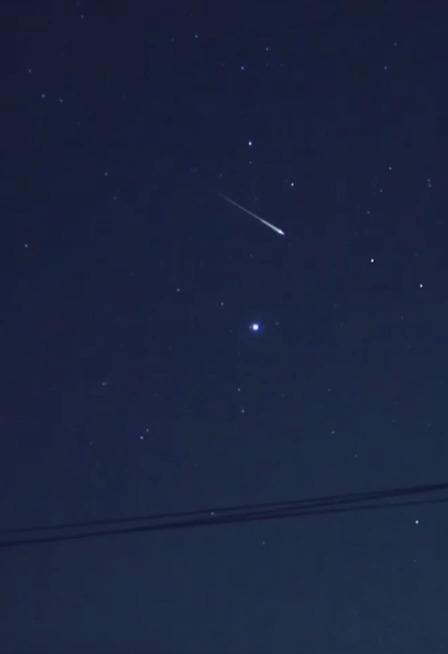meteorite: (211, 189, 296, 237)
